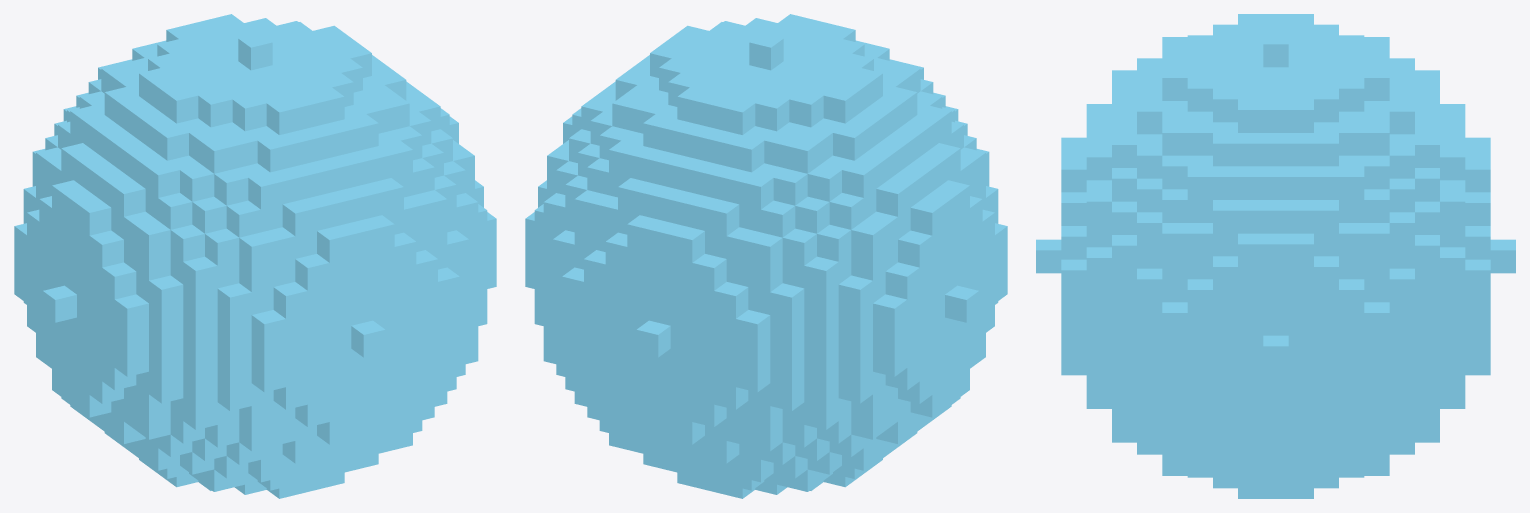
The picture shows the model from 3 angles, left to right: view 1: azimuth 30°, elevation 25°; view 2: azimuth 150°, elevation 25°; view 3: azimuth 270°, elevation 25°; orthographic projection.
Visible parts, largest first — view 1: Object; view 2: Object; view 3: Object.
Part boxes in pixels (x1=…): Object: x1=14, y1=14, x2=496, y2=498; Object: x1=525, y1=14, x2=1007, y2=498; Object: x1=1036, y1=14, x2=1515, y2=498.
Bounding box in the file's own units: 19 × 19 × 19.
1 material, 1 textured.
